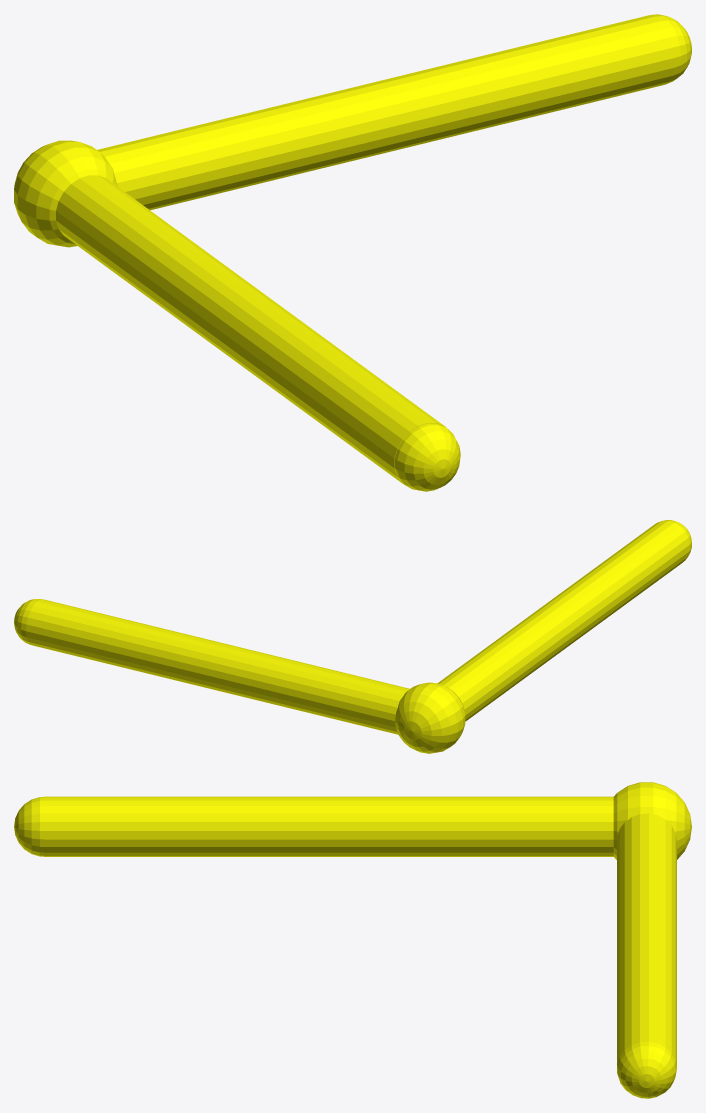
The model's file is ModZheJiaoGunGate.obj.
3 renders of one model, top to bottom at view 1: azimuth 30°, elevation 25°; view 2: azimuth 150°, elevation 25°; view 3: azimuth 270°, elevation 25°, orthographic. The views are drawn at different scales.
Parts seen in each view (by area): view 1: ModZheJiaoGunGate; view 2: ModZheJiaoGunGate; view 3: ModZheJiaoGunGate.
Part boxes in pixels (x1=…): ModZheJiaoGunGate: x1=14, y1=14, x2=691, y2=491; ModZheJiaoGunGate: x1=14, y1=520, x2=691, y2=753; ModZheJiaoGunGate: x1=14, y1=782, x2=691, y2=1098.
Size of the model in its own units: 1.07 by 0.1481 by 1.12.
